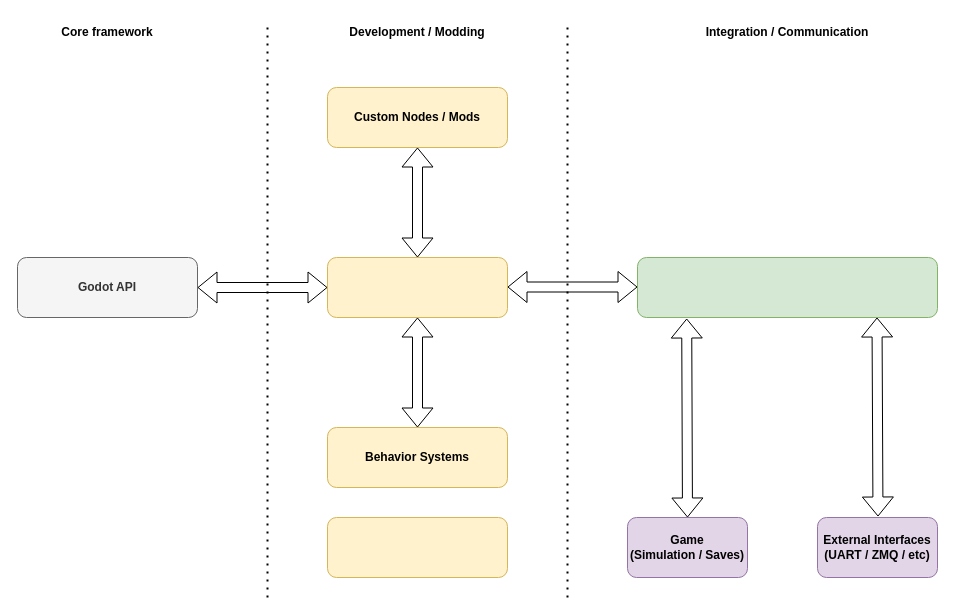
This 955x616 diagram has some shape labels left out. Here are the shapes that lost their labels. From the top down, the box of each, then its label:
(326, 256, 508, 318): Godot Nodes API (Vehicles, Cabins, Other)
(636, 256, 938, 318): High Level API
(326, 516, 508, 578): Utilities
